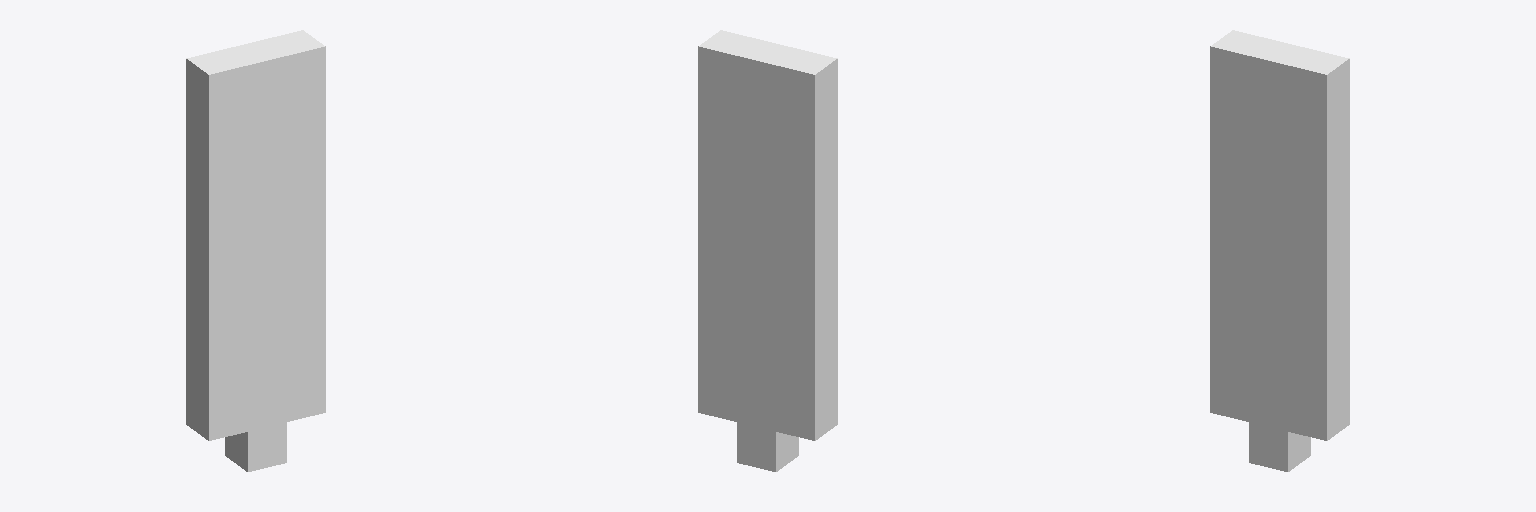
File: tie.obj
3 views of the same model, side by side, from view 1: azimuth 30°, elevation 25°; view 2: azimuth 150°, elevation 25°; view 3: azimuth 330°, elevation 25° (orthographic).
Visible parts, largest first — view 1: object 1; view 2: object 1; view 3: object 1.
Boxes of the visible parts, box(x1,y1,x2,y2) form: object 1: box(186, 30, 325, 471); object 1: box(698, 30, 837, 471); object 1: box(1210, 30, 1349, 471).
Size of the model in its own units: 0.3 by 1 by 0.1.